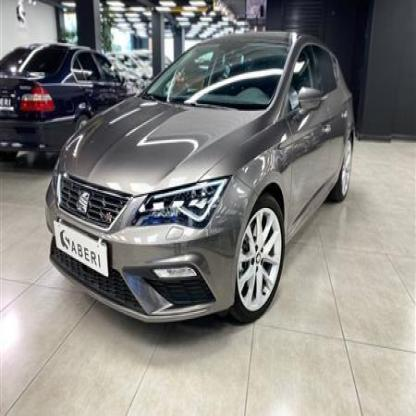Car: (44, 39, 355, 335), (0, 46, 133, 197)
